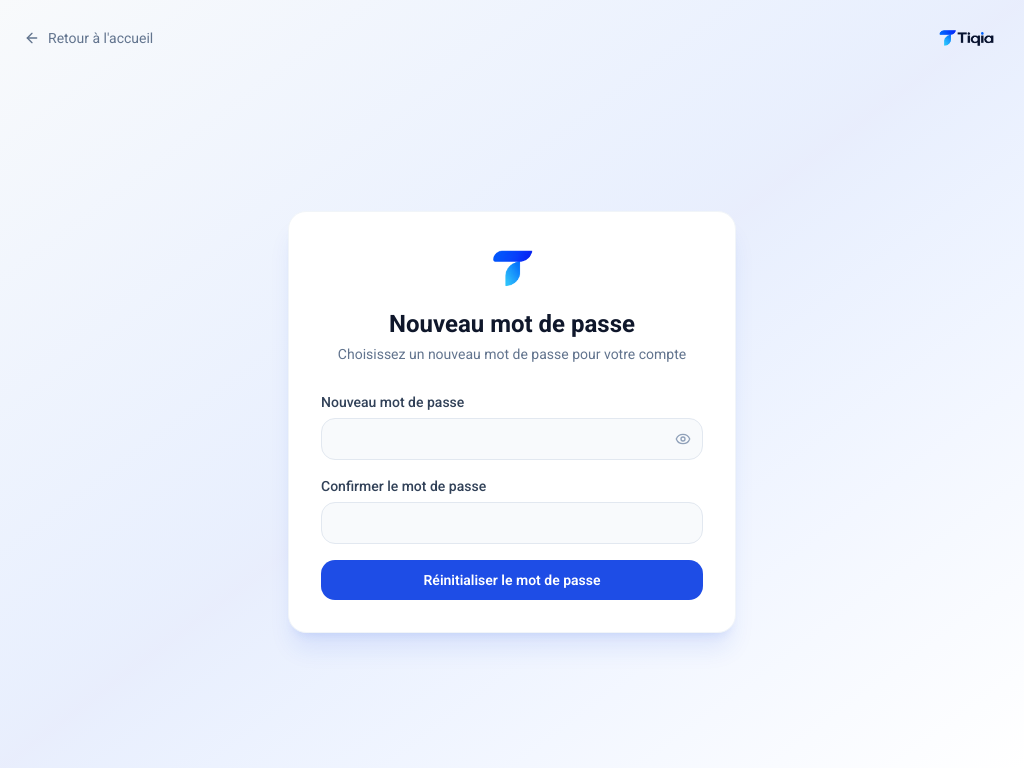
Scenario: ResetPasswordPage › shows the server error when the token is invalid or expired
Type "password123" into the password field labelled "Nouveau mot de passe" at [512, 439], box [321,418,703,460]
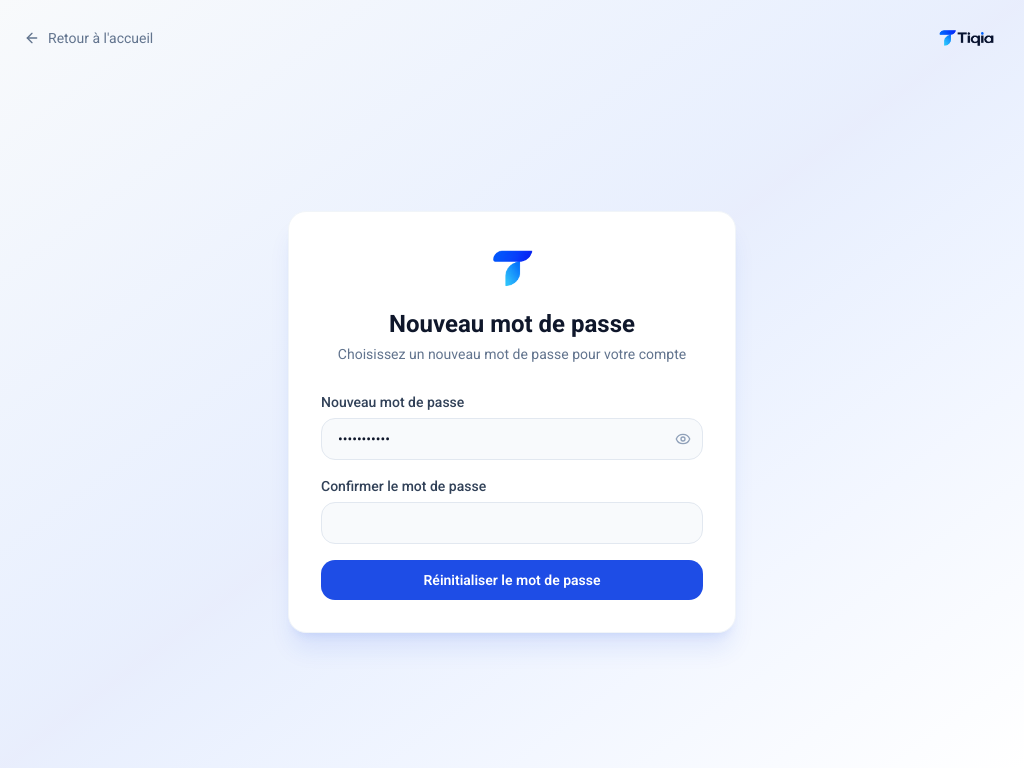
Type "password123" into the password field labelled "Confirmer le mot de passe" at [512, 523], box [321,502,703,544]
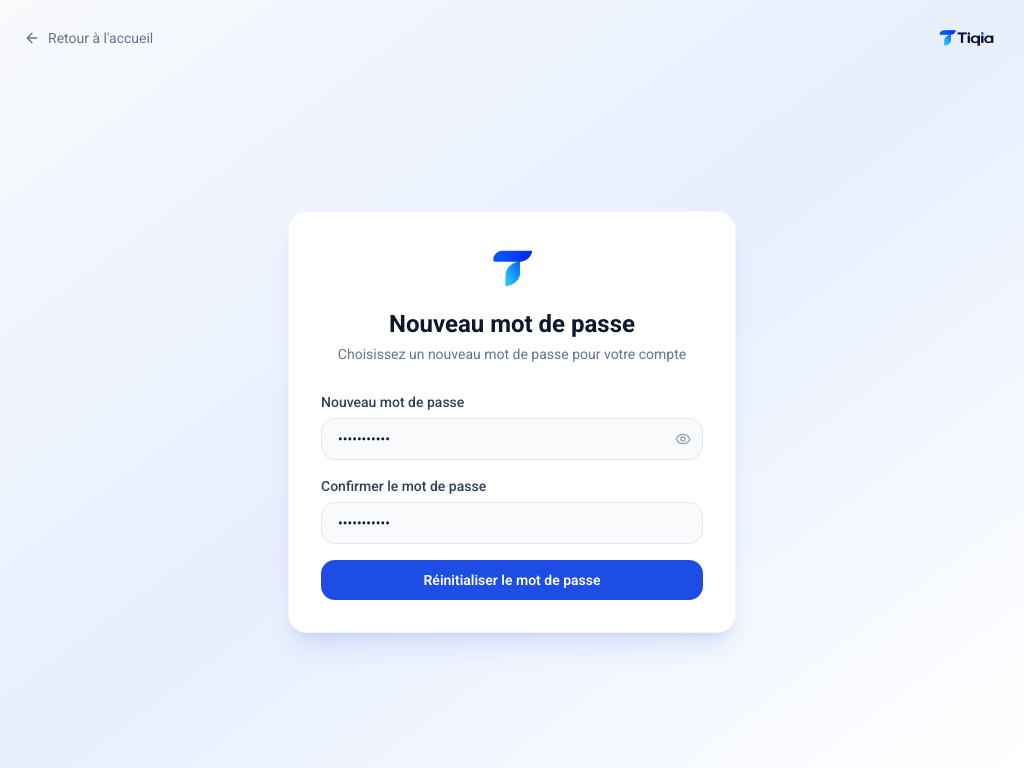
Click the button "Réinitialiser le mot de passe" at [512, 580], box [321,560,703,600]
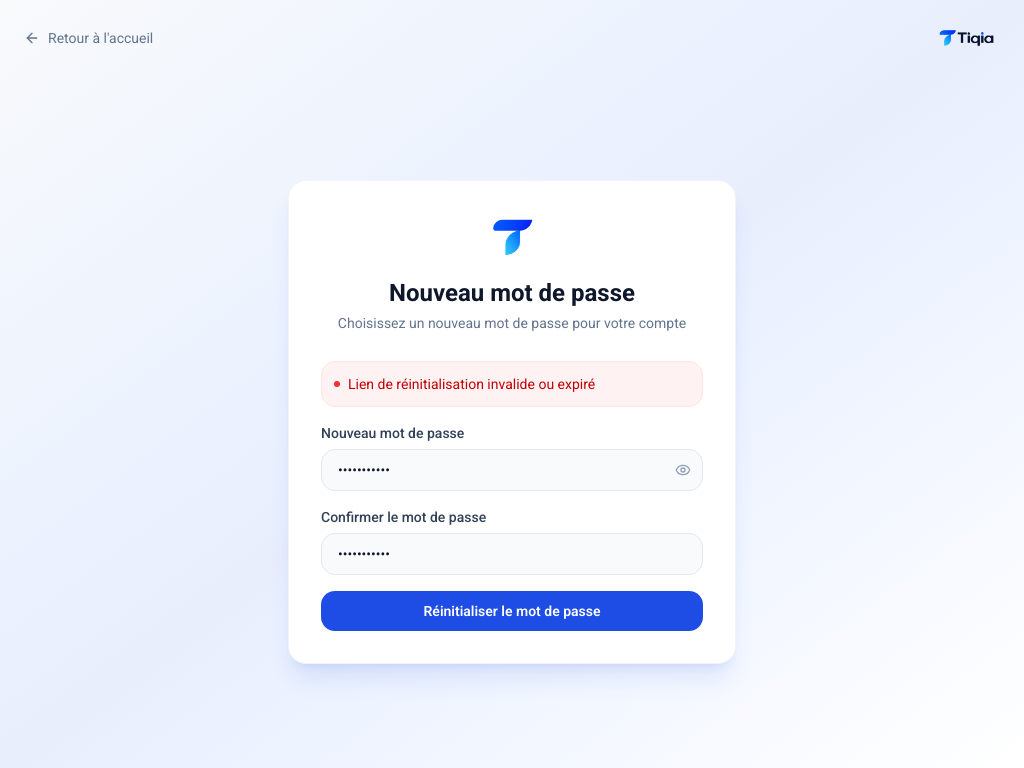
expect the text "Lien de réinitialisation invalide ou expiré" is shown: met, box [321,361,703,407]
